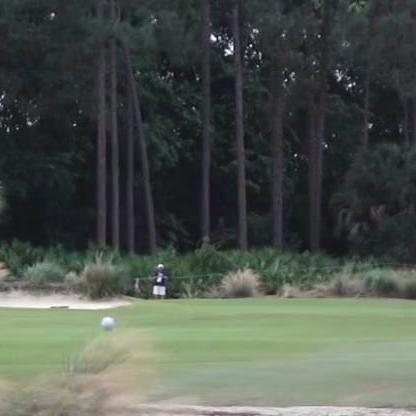golfball: (100, 315, 112, 330)
